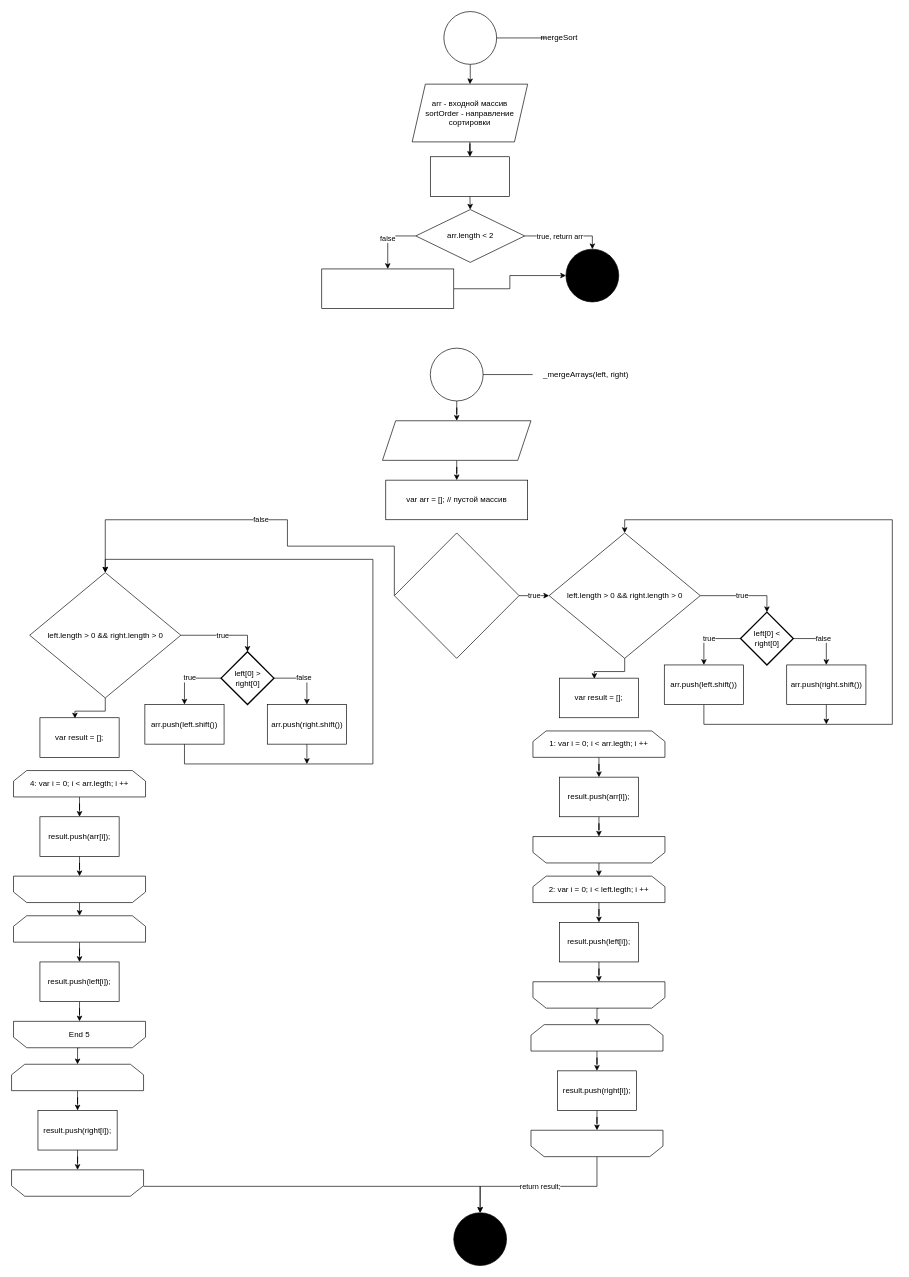
Some shapes in this 909 by 1277 pixel diagram are drawn without their labels. Each missing label, with the centre of its shape:
3: var i = 0; i < right.legth; i ++: point (596, 1037)
5: var i = 0; i < left.legth; i ++: point (79, 928)
6: var i = 0; i < right.legth; i ++: point (77, 1077)
End 1: point (598, 849)
End 2: point (598, 994)
End 3: point (596, 1143)
End 4: point (79, 889)
End 6: point (77, 1182)
left, right - входные массивы, полученные из функции mergeSort: point (456, 440)
return _mergeArrays(mergeSort(left), mergesort(arr)): point (387, 288)
sortOrder == FromLowToHigh: point (456, 595)
var half = arr.length/2: point (470, 176)
